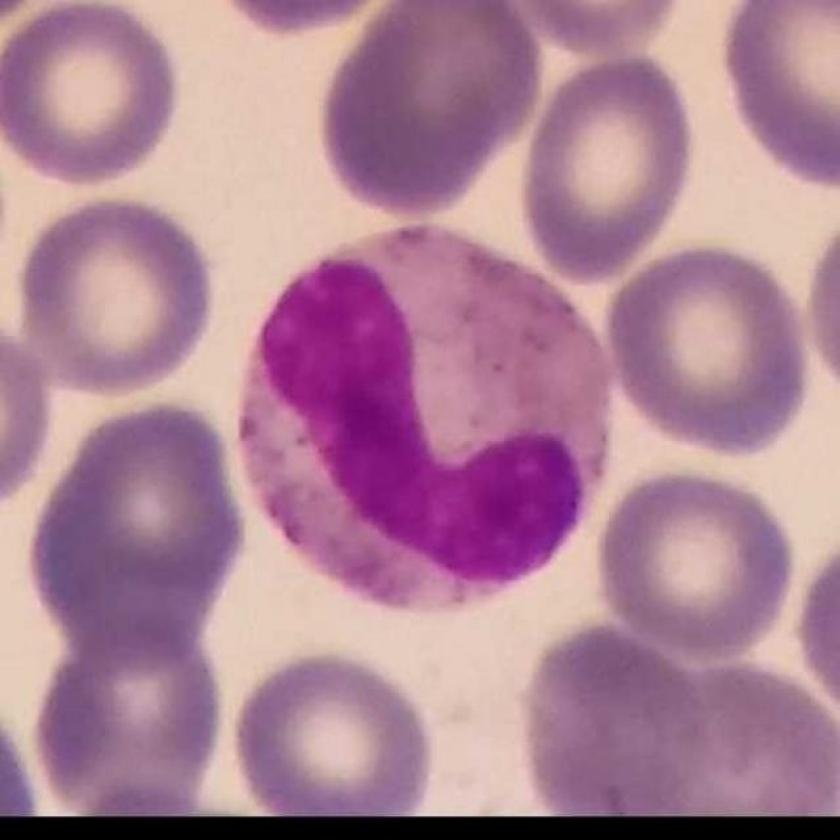eosinophil: (236, 218, 618, 617)
